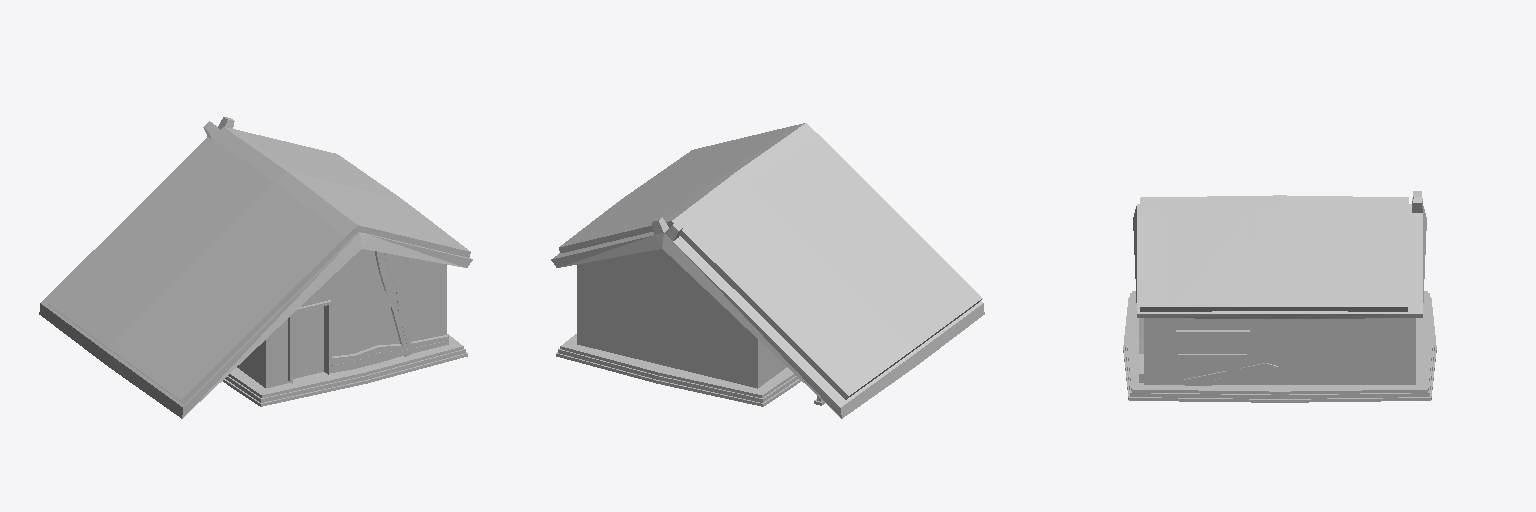
File: frozen cottage.obj
3 renders of one model, left to right at view 1: azimuth 30°, elevation 25°; view 2: azimuth 150°, elevation 25°; view 3: azimuth 270°, elevation 25°, orthographic.
Parts seen in each view (by area): view 1: Jotunheim_House004_soleiman_refine; view 2: Jotunheim_House004_soleiman_refine; view 3: Jotunheim_House004_soleiman_refine.
Part boxes in pixels (x1,y1,x2,y2): Jotunheim_House004_soleiman_refine: (39,117,472,418); Jotunheim_House004_soleiman_refine: (551,123,984,418); Jotunheim_House004_soleiman_refine: (1123,191,1436,402).
Bounding box in the file's own units: 29.9 × 15.19 × 27.57.